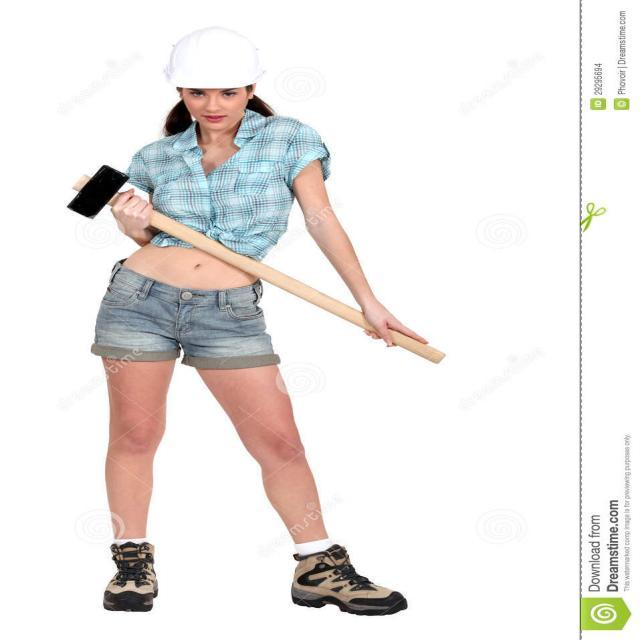hammer: (16, 142, 456, 376)
